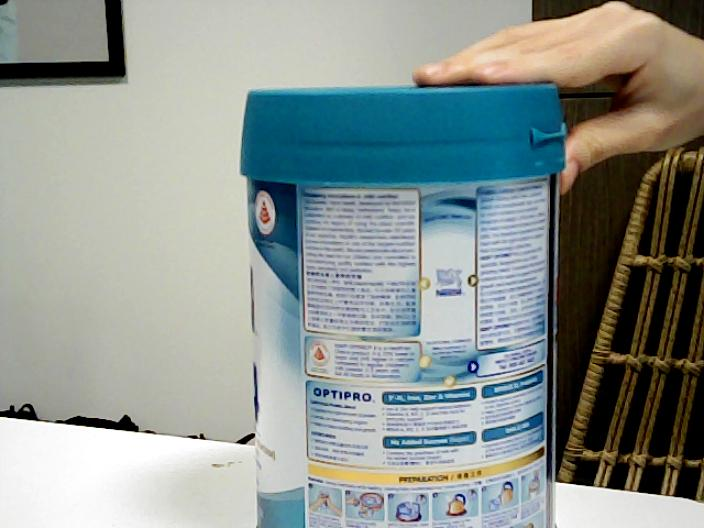Babymilk-powder_800-899g_Halal_Healthy: (238, 79, 563, 528)
